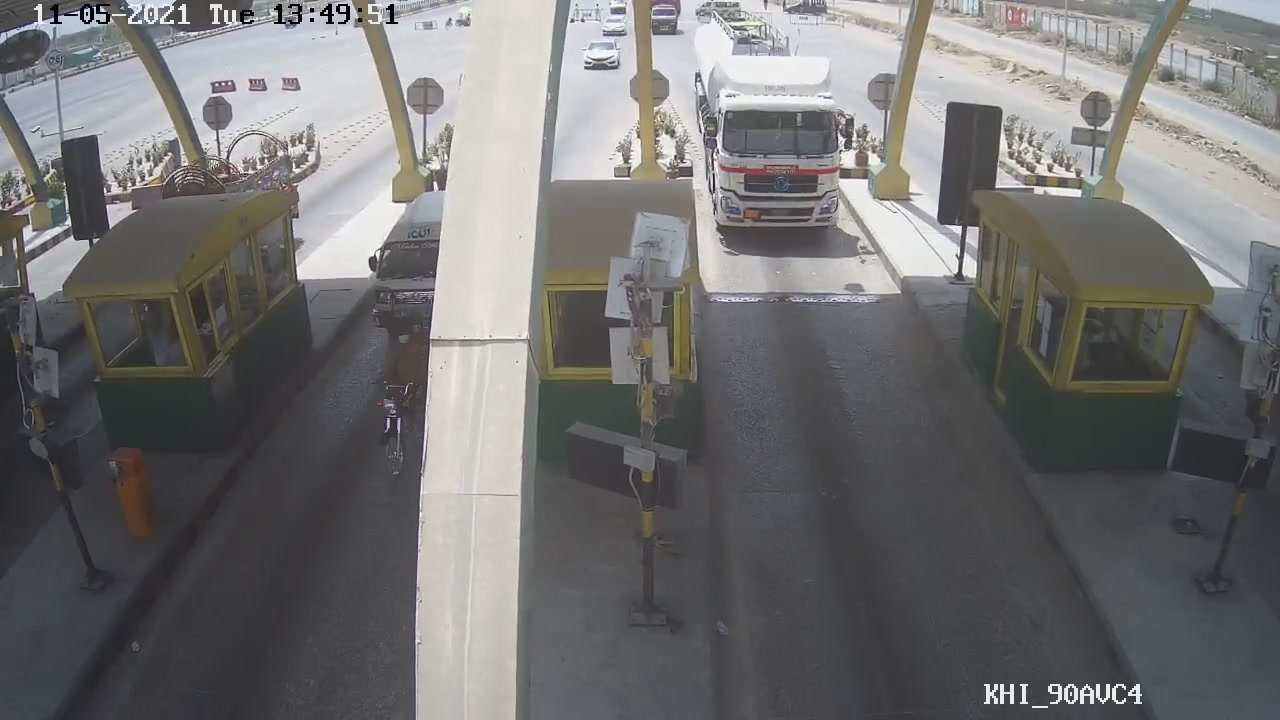F6: (699, 18, 863, 246)
